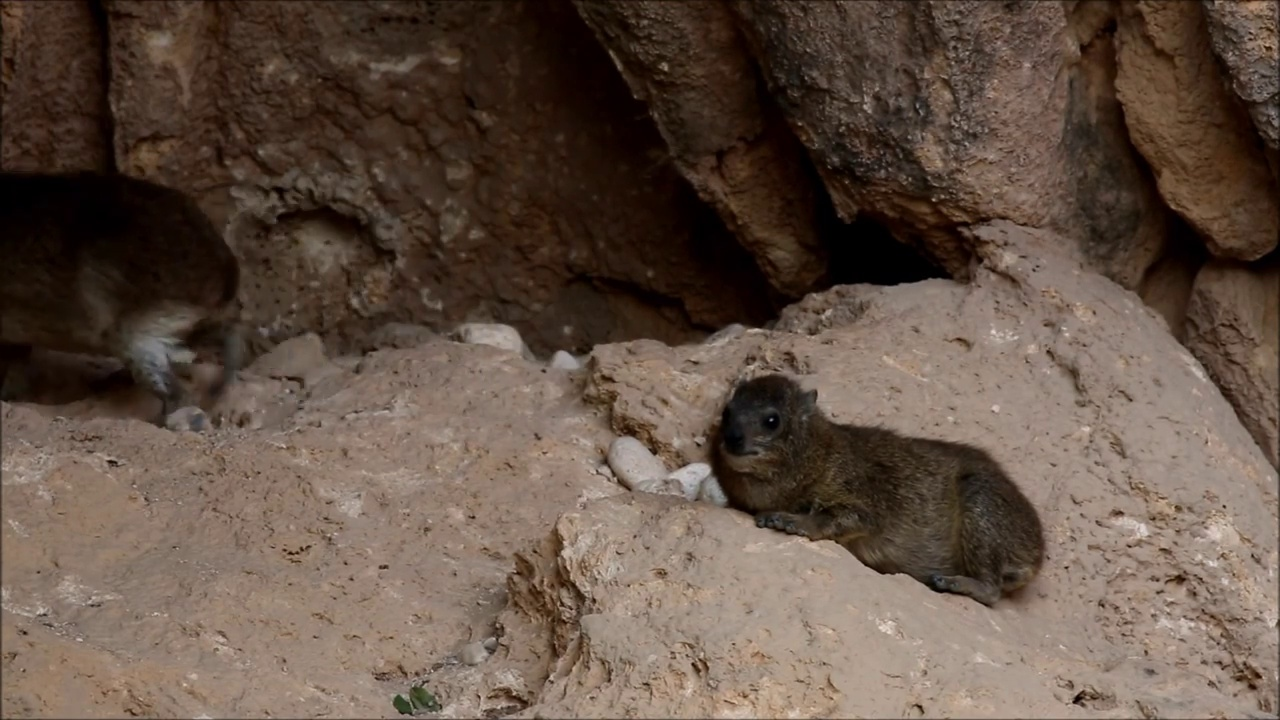Rock Hyrex: (708, 375, 1046, 604), (1, 164, 238, 437)
